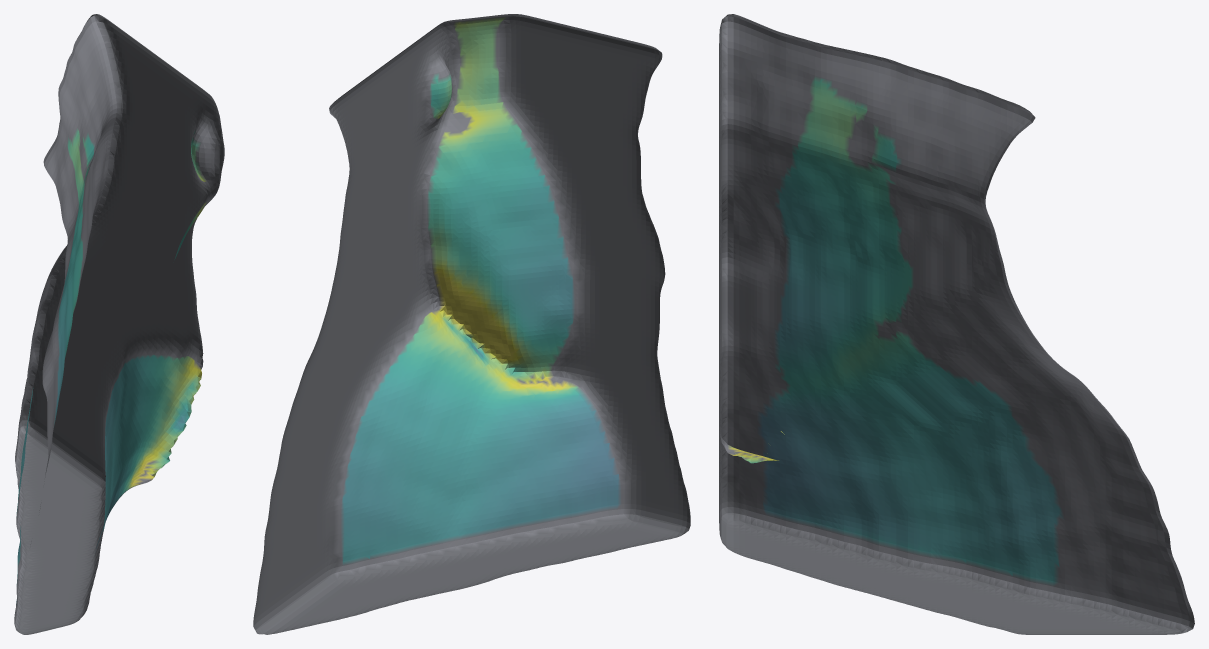
File: crop1147.glb
3 renders of one model, left to right at view 1: azimuth 30°, elevation 25°; view 2: azimuth 150°, elevation 25°; view 3: azimuth 270°, elevation 25°, orthographic. The views are drawn at different scales.
Parts seen in each view (by area): view 1: geometry_0; view 2: geometry_0; view 3: geometry_0.
Part boxes in pixels (<box>): geometry_0: <box>14,14,224,634</box>; geometry_0: <box>253,14,690,634</box>; geometry_0: <box>719,14,1194,634</box>.
Size of the model in its own units: 392 by 800 by 655.
